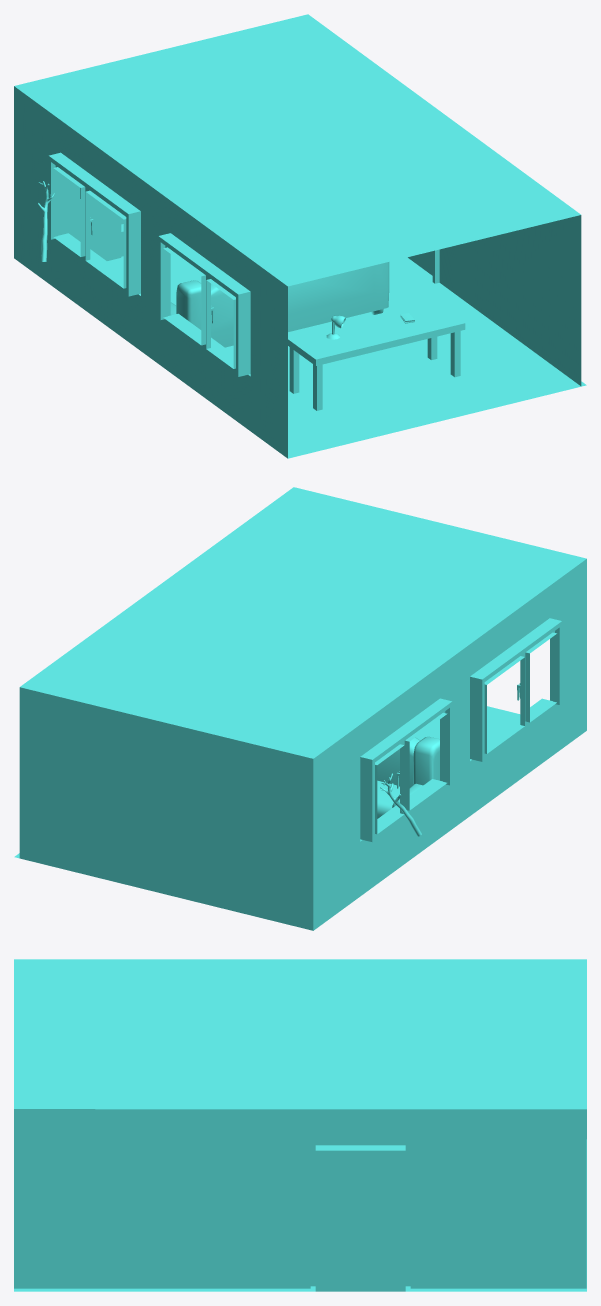
File: StandBy_Environment_Jun24_untextured.fbx
3 views of the same model, one above another, from view 1: azimuth 30°, elevation 25°; view 2: azimuth 150°, elevation 25°; view 3: azimuth 270°, elevation 25° (orthographic). The views are drawn at different scales.
Visible parts, largest first — view 1: Ceiling, WindowWall, Floor, DoorWall, Window, Table, Sofa_Lowpoly, LivingRoomClosetDoorLeft_WIP, LivingRoomClosetDoorRight_WIP, CeilingLamp; view 2: WindowWall, Ceiling, Window, Sofa_Lowpoly, Floor, CeilingLamp; view 3: DoorWall, Ceiling, Door, DoorFrame, Floor, CeilingLamp.
Part boxes in pixels (<box>): Ceiling: <box>14,14,580,286</box>; WindowWall: <box>14,86,287,458</box>; Floor: <box>107,254,586,458</box>; DoorWall: <box>439,215,581,385</box>; Window: <box>48,152,250,376</box>; Table: <box>288,300,465,410</box>; Sofa_Lowpoly: <box>170,262,389,347</box>; LivingRoomClosetDoorLeft_WIP: <box>90,195,121,260</box>; LivingRoomClosetDoorRight_WIP: <box>61,174,80,241</box>; CeilingLamp: <box>264,143,306,160</box>; WindowWall: <box>19,559,586,930</box>; Ceiling: <box>20,487,586,758</box>; Window: <box>360,618,561,842</box>; Sofa_Lowpoly: <box>377,736,439,818</box>; Floor: <box>14,706,519,858</box>; CeilingLamp: <box>291,618,333,635</box>; DoorWall: <box>14,1109,586,1288</box>; Ceiling: <box>14,959,586,1109</box>; Door: <box>315,1148,405,1291</box>; DoorFrame: <box>310,1143,410,1286</box>; Floor: <box>14,1139,586,1291</box>; CeilingLamp: <box>282,1019,325,1037</box>.
Bounding box in the file's own units: 12515 × 6055 × 17453.
